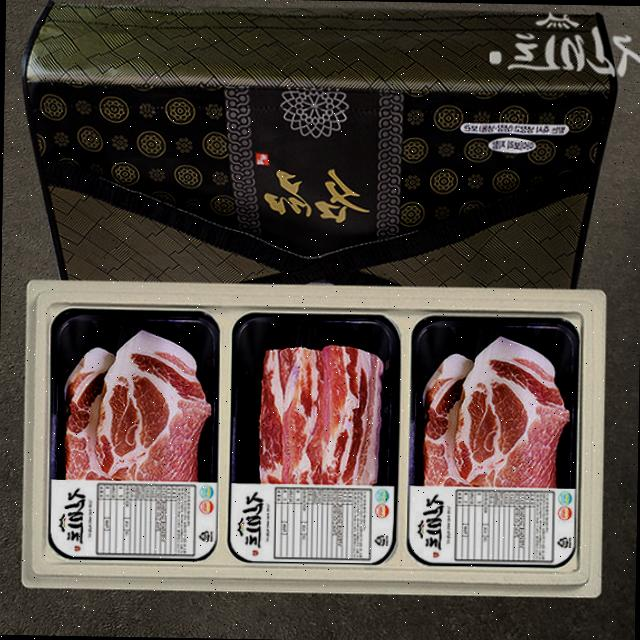meat: (25, 283, 640, 595)
